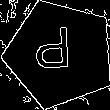P_S: (39, 28, 81, 80)
